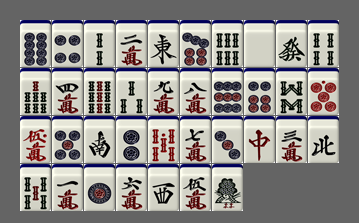0m: (20, 116, 51, 163)
0p: (308, 68, 339, 115)
0s: (148, 116, 179, 163)
1m: (52, 164, 83, 211)
1p: (84, 164, 115, 211)
1s: (212, 164, 243, 211)
1z: (148, 20, 179, 67)
2m: (116, 20, 147, 67)
2p: (116, 116, 147, 163)
2s: (84, 20, 115, 67)
2z: (84, 116, 115, 163)
3m: (276, 116, 307, 163)
3p: (212, 116, 243, 163)
3s: (116, 68, 147, 115)
3z: (148, 164, 179, 211)
4m: (52, 68, 83, 115)
4p: (52, 20, 83, 67)
4s: (308, 20, 339, 67)
4z: (308, 116, 339, 163)
5m: (180, 164, 211, 211)
5p: (52, 116, 83, 163)
5s: (20, 164, 51, 211)
5z: (244, 20, 275, 67)
6m: (116, 164, 147, 211)
6p: (244, 68, 275, 115)
6s: (212, 20, 243, 67)
6z: (276, 20, 307, 67)
7m: (180, 116, 211, 163)
7p: (180, 20, 211, 67)
7s: (20, 68, 51, 115)
7z: (244, 116, 275, 163)
8m: (180, 68, 211, 115)
8p: (20, 20, 51, 67)
8s: (276, 68, 307, 115)
9m: (148, 68, 179, 115)
9p: (212, 68, 243, 115)
9s: (84, 68, 115, 115)
